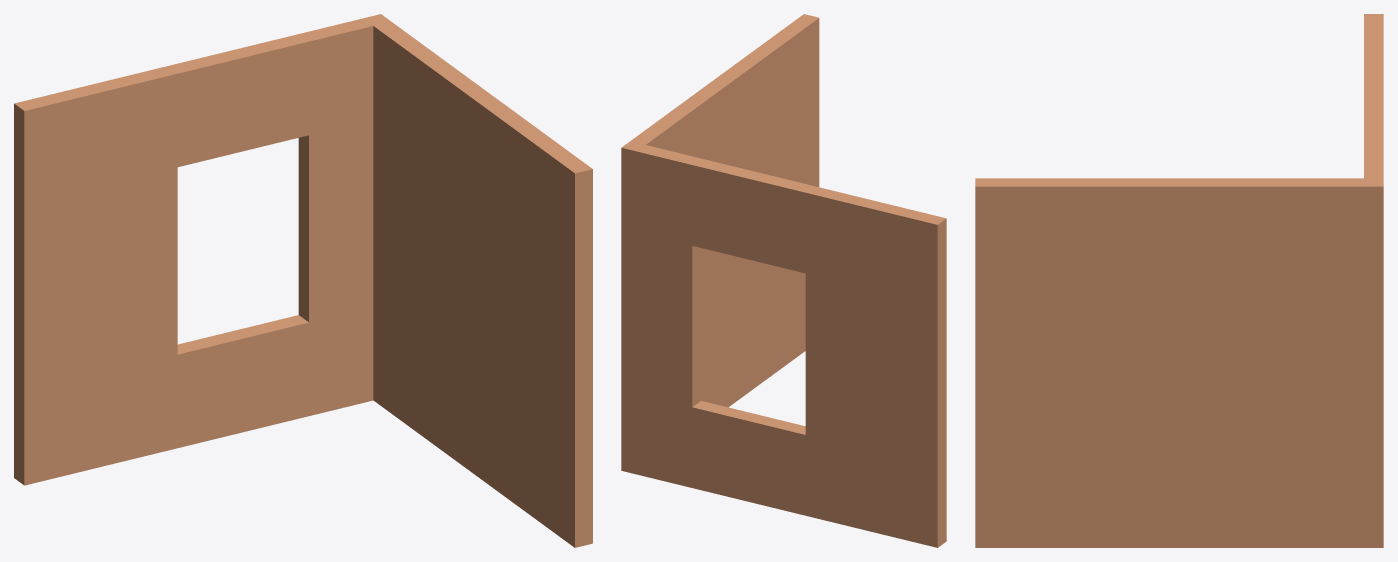
The model's file is Wal_4_Corner_D.fbx.
3 renders of one model, left to right at view 1: azimuth 30°, elevation 25°; view 2: azimuth 150°, elevation 25°; view 3: azimuth 270°, elevation 25°, orthographic. The views are drawn at different scales.
Visible parts, largest first — view 1: polySurface28; view 2: polySurface28; view 3: polySurface28.
Boxes of the visible parts, x1,y1,x2,y2 form: polySurface28: (14,14,592,547); polySurface28: (621,14,946,547); polySurface28: (975,14,1383,547).
Size of the model in its own units: 4.1 by 4 by 4.1.
Materials: 1 (1 with a texture image).
